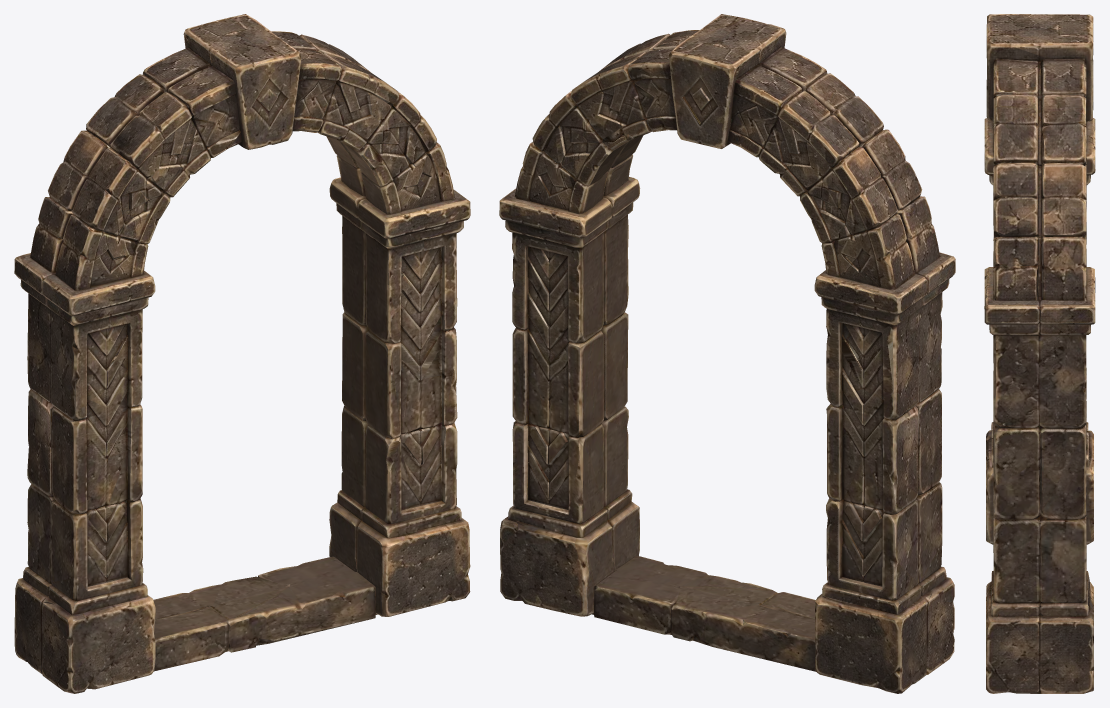
Rendered from stone-archway.glb.
The picture shows the model from 3 angles, left to right: view 1: azimuth 30°, elevation 25°; view 2: azimuth 150°, elevation 25°; view 3: azimuth 270°, elevation 25°; orthographic projection. The views are drawn at different scales.
Visible parts, largest first — view 1: Mesh_0; view 2: Mesh_0; view 3: Mesh_0.
Boxes of the visible parts, x1,y1,x2,y2 form: Mesh_0: [14, 14, 470, 693]; Mesh_0: [499, 14, 955, 693]; Mesh_0: [984, 14, 1095, 693].
Size of the model in its own units: 1.35 by 1.9 by 0.3331.
Materials: 1 (1 with a texture image).
